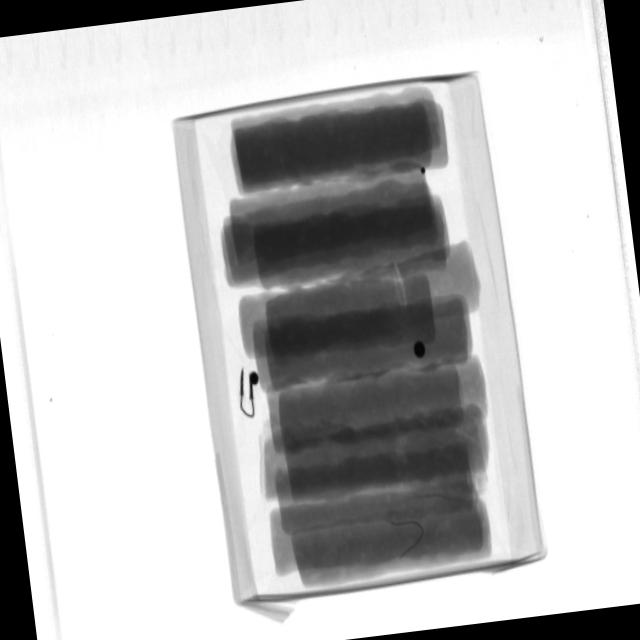ym: (389, 513, 425, 557), (237, 367, 264, 419), (414, 340, 428, 359), (420, 167, 428, 175)
